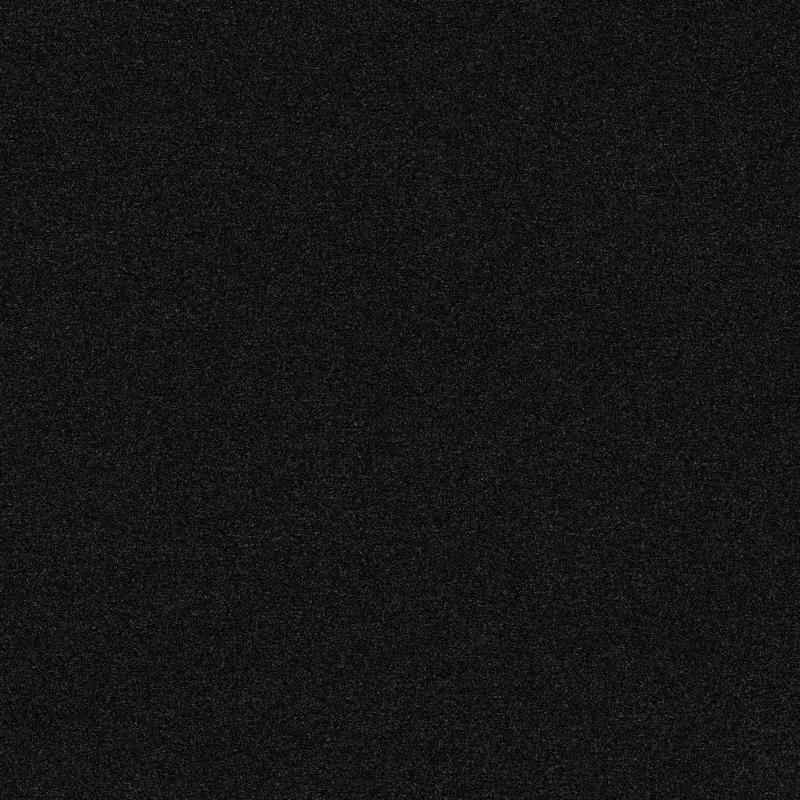sea: (70, 84, 744, 745)
